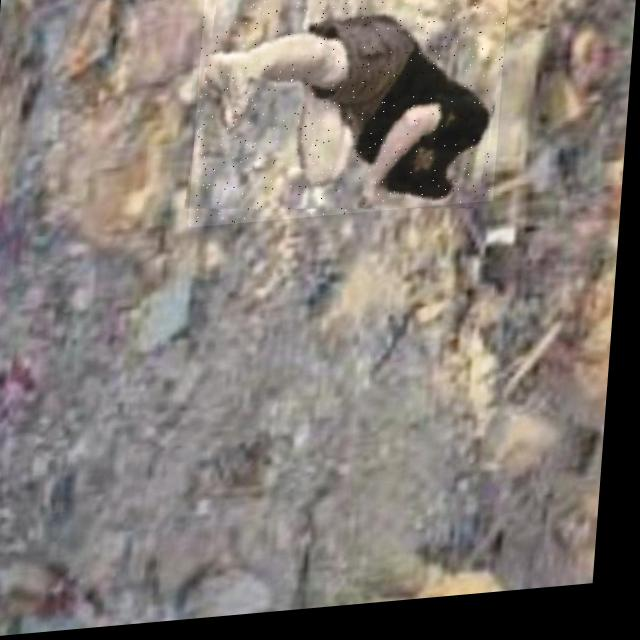Person in Rubble: (191, 0, 510, 232)
